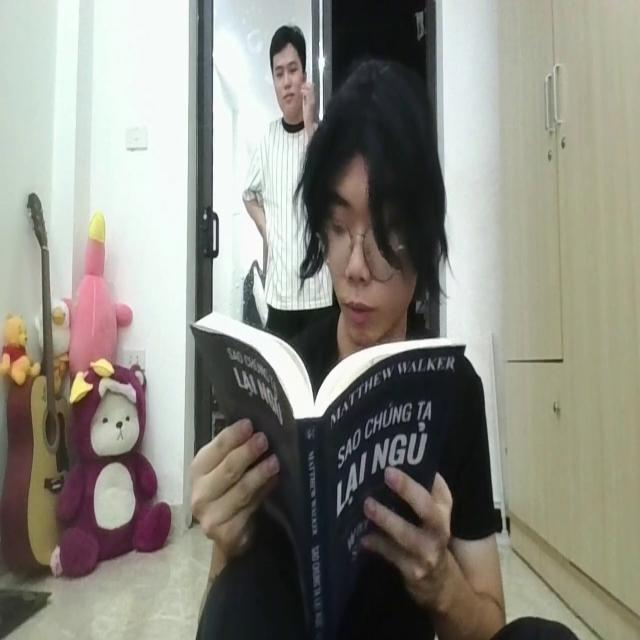book: (193, 300, 458, 638)
extra_person: (239, 29, 337, 333)
student: (180, 59, 502, 640)
